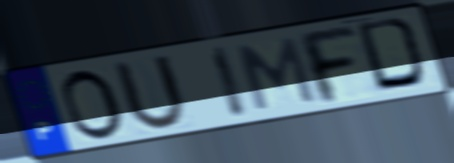D: (354, 15, 432, 94)
F: (292, 24, 362, 107)
I: (208, 43, 251, 121)
M: (234, 35, 319, 113)
O: (59, 67, 128, 144)
U: (110, 52, 189, 134)
